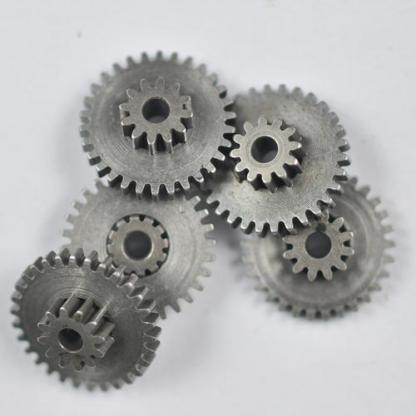FOD: (75, 49, 239, 202), (231, 176, 398, 324), (196, 82, 355, 236), (8, 247, 166, 396), (35, 292, 121, 375), (118, 71, 198, 154), (228, 112, 311, 191), (278, 214, 358, 279)
